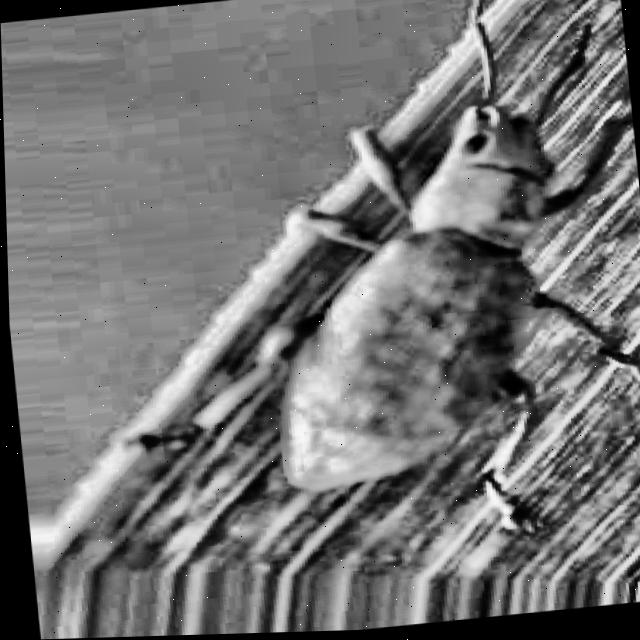Stink bug: (134, 10, 640, 635)
